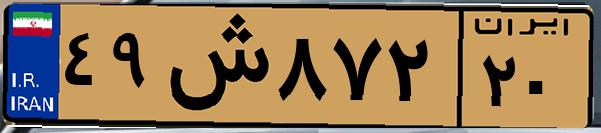0: (525, 38, 570, 115)
2: (385, 28, 445, 110), (475, 38, 525, 113)
4: (57, 26, 110, 100)
7: (330, 28, 385, 110)
8: (270, 28, 330, 110)
9: (110, 28, 158, 98)
ش: (158, 12, 270, 120)
